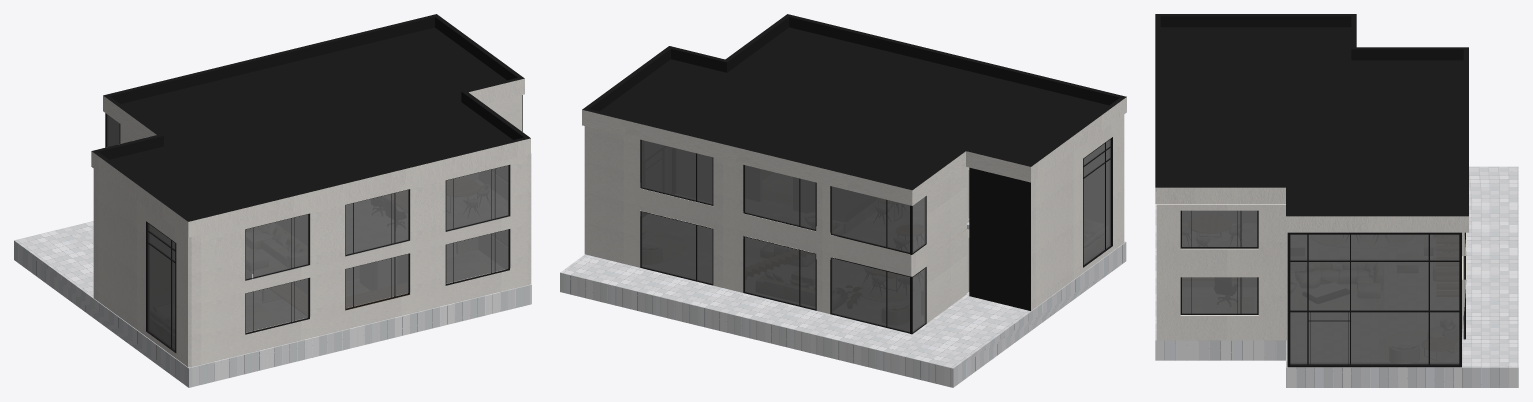
Rendered from oficina-hero.glb.
The picture shows the model from 3 angles, left to right: view 1: azimuth 30°, elevation 25°; view 2: azimuth 150°, elevation 25°; view 3: azimuth 270°, elevation 25°; orthographic projection. The views are drawn at different scales.
Visible parts, largest first — view 1: Cube.002_Material.002_0, Cube.004_Material.001_0, Plane.020_Material.004_0, object 1; view 2: Cube.002_Material.002_0, Cube.004_Material.001_0, Plane.020_Material.004_0, object 1; view 3: Cube.002_Material.002_0, Plane.020_Material.004_0, object 1, Cube.004_Material.001_0.
Boxes of the visible parts, x1,y1,x2,y2 form: Cube.002_Material.002_0: [92, 14, 530, 352]; Cube.004_Material.001_0: [91, 78, 531, 367]; Plane.020_Material.004_0: [107, 114, 510, 350]; object 1: [14, 221, 531, 387]; Cube.002_Material.002_0: [582, 14, 1126, 334]; Cube.004_Material.001_0: [582, 97, 1126, 323]; Plane.020_Material.004_0: [641, 139, 1110, 332]; object 1: [560, 222, 1126, 387]; Cube.002_Material.002_0: [1155, 14, 1468, 367]; Plane.020_Material.004_0: [1182, 210, 1464, 364]; object 1: [1155, 166, 1518, 387]; Cube.004_Material.001_0: [1155, 187, 1468, 367].
Size of the model in its own units: 0.5144 by 0.2045 by 0.3901.
Materials: 17 (17 with a texture image).
